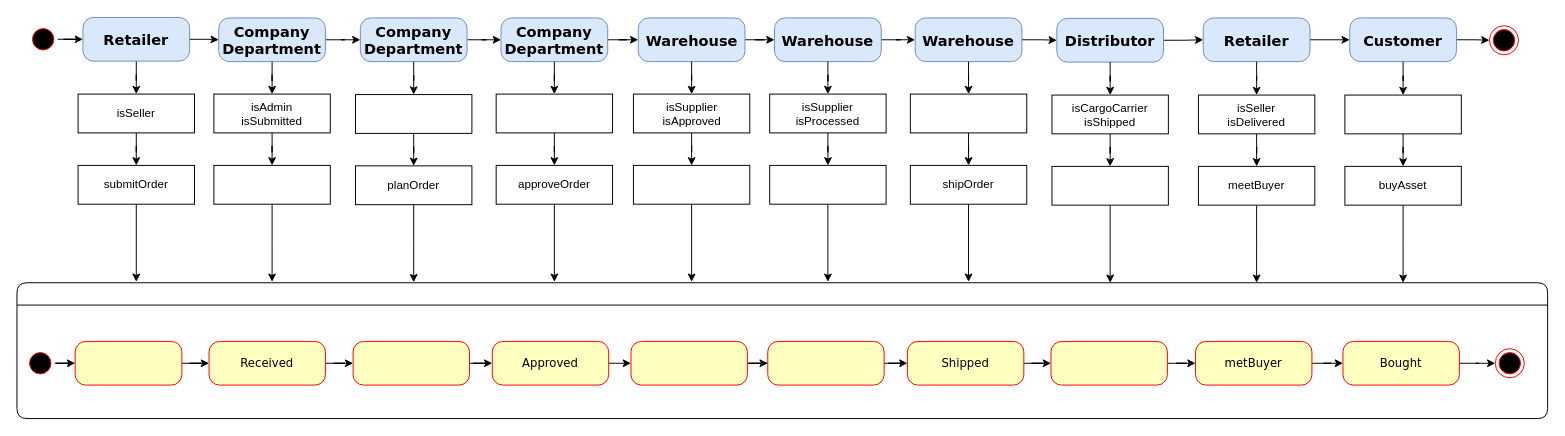
This 1565x436 diagram has some shape labels left out. Each missing label, with the box of its shape:
Assets Order State: (16, 282, 1548, 419)
Delivered: (1050, 340, 1167, 385)
deliverOrder: (1051, 165, 1168, 205)
isAdmin isPlanned: (495, 93, 613, 133)
isAdmin isReceived: (355, 94, 472, 133)
isBuyer: (1344, 94, 1461, 134)
isSupplier isPackaged: (909, 93, 1027, 133)
Packaged: (767, 340, 884, 385)
packageOrder: (769, 164, 886, 204)
Planned: (352, 340, 469, 385)
Processed: (630, 340, 747, 385)
processOrder: (632, 164, 750, 204)
receiveOrder: (213, 164, 330, 204)
Submited: (74, 340, 182, 385)
